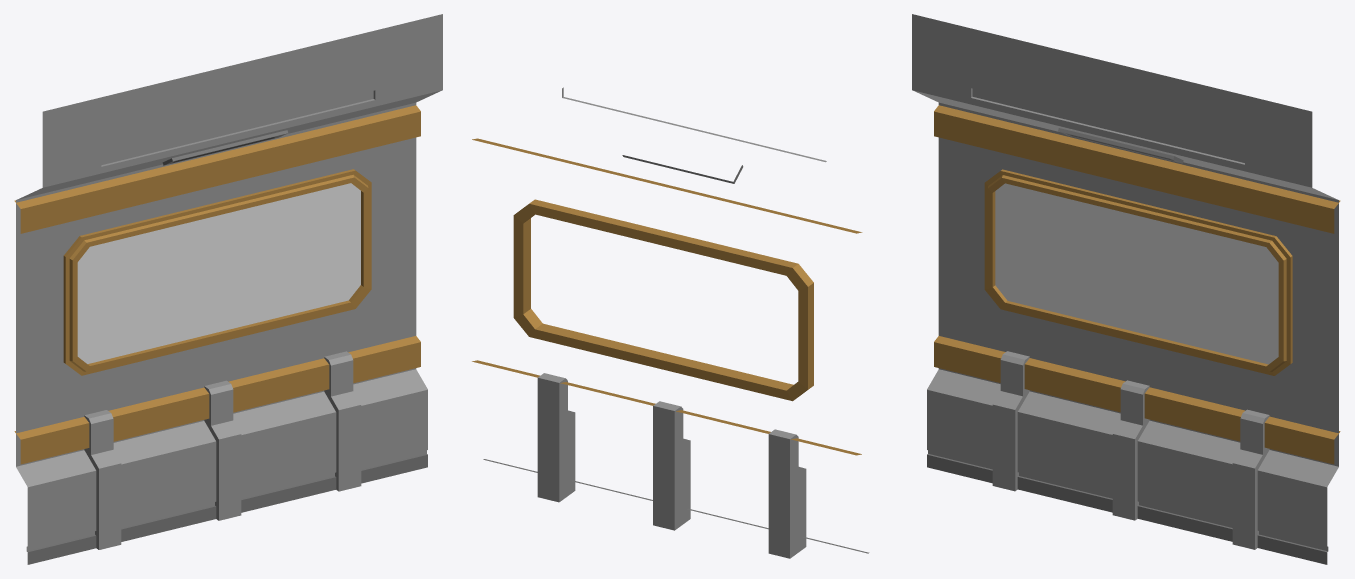
Rendered from quaternius-modular-sci-fi-window-wall-side-b.glb.
3 renders of one model, left to right at view 1: azimuth 30°, elevation 25°; view 2: azimuth 150°, elevation 25°; view 3: azimuth 330°, elevation 25°, orthographic. The views are drawn at different scales.
Visible parts, largest first — view 1: Window_Wall_SideB; view 2: Window_Wall_SideB; view 3: Window_Wall_SideB.
Boxes of the visible parts, box(x1,y1,x2,y2) form: Window_Wall_SideB: box(14, 14, 442, 564); Window_Wall_SideB: box(472, 87, 869, 558); Window_Wall_SideB: box(912, 14, 1340, 564).
Size of the model in its own units: 4 by 4.43 by 0.5355.
